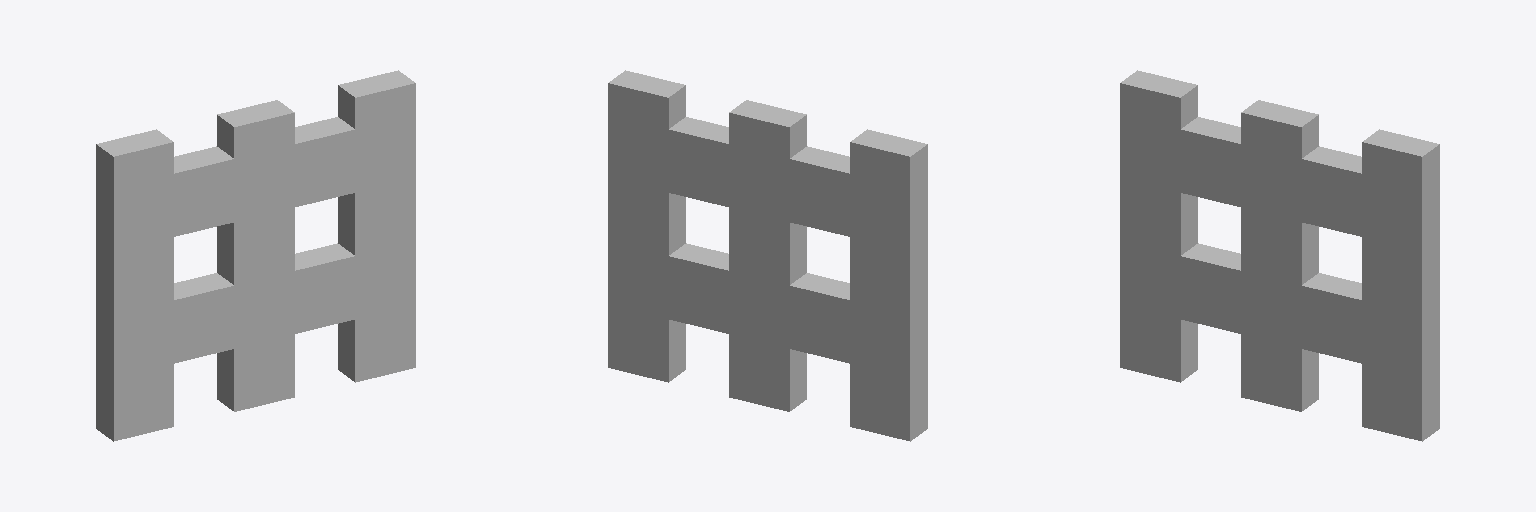
File: fence.obj
3 renders of one model, left to right at view 1: azimuth 30°, elevation 25°; view 2: azimuth 150°, elevation 25°; view 3: azimuth 330°, elevation 25°, orthographic.
Visible parts, largest first — view 1: object 1; view 2: object 1; view 3: object 1.
Boxes of the visible parts, x1=… form: object 1: x1=96, y1=70, x2=415, y2=441; object 1: x1=608, y1=70, x2=927, y2=441; object 1: x1=1120, y1=70, x2=1439, y2=441.
Size of the model in its own units: 1 by 0.9 by 0.1.